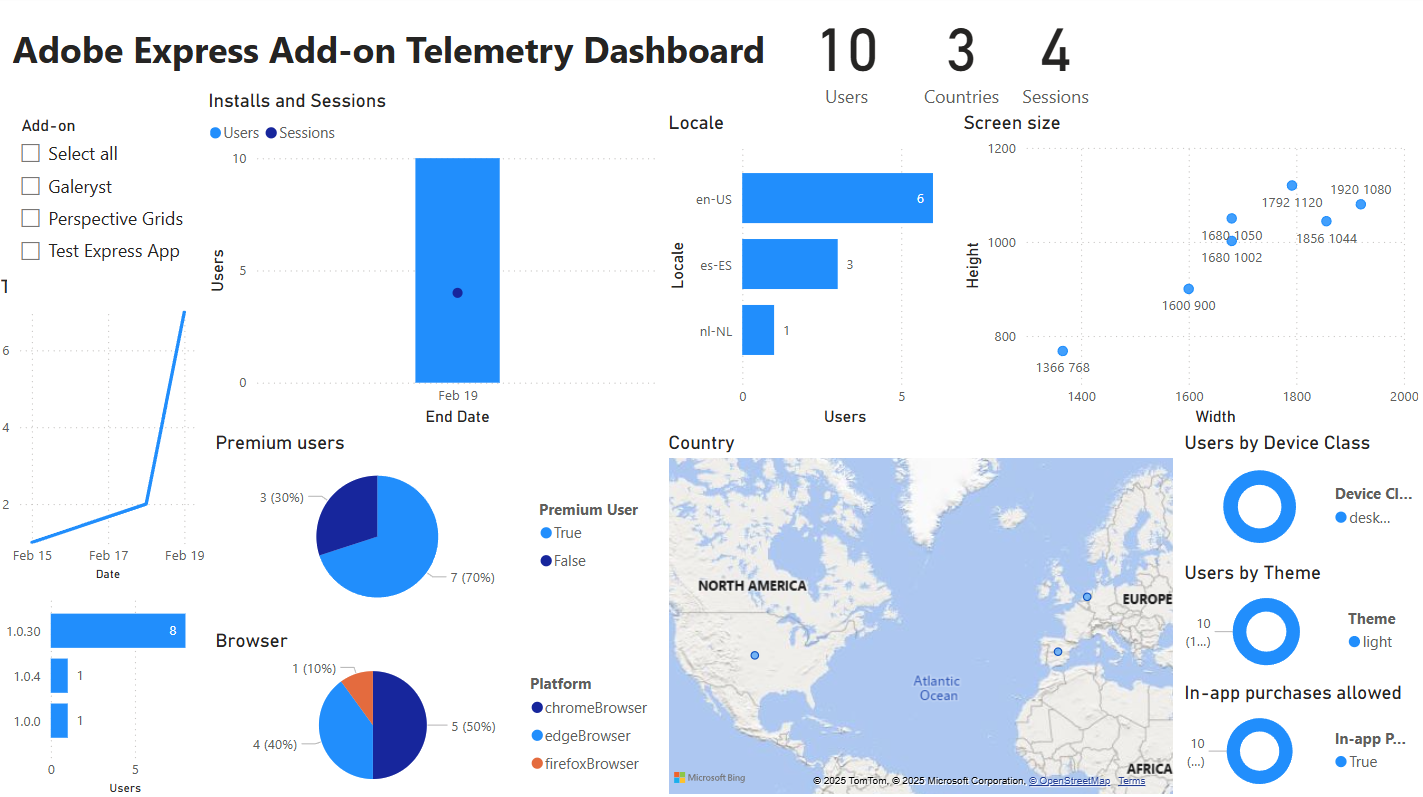

This screenshot's page, from the dashboard's own definition file:
{"tool":"powerbi","page":{"name":"Users","canvas":[1280,720],"ordinal":0},"visuals":[{"type":"lineClusteredColumnComboChart","title":"Installs by date","fields":{"Y":["expressAnalyticsUsers.Users2"],"Category":["Dates.Date"]},"box":[0,282.1,192.5,199.7],"z":0},{"type":"pieChart","title":"Premium users","fields":{"Y":["expressAnalyticsUsers.Users2"],"Category":["expressAnalyticsUsers.Premium User"]},"box":[192.5,382.4,314.3,177.3],"z":1000},{"type":"donutChart","title":"In-app purchases allowed","fields":{"Category":["expressAnalyticsUsers.In-app Purchase Allowed"],"Y":["expressAnalyticsUsers.Users2"]},"box":[1060.3,613.4,219.4,106.6],"z":2000},{"type":"pieChart","title":"Browser","fields":{"Category":["expressAnalyticsUsers.Platform"],"Y":["expressAnalyticsUsers.Users2"]},"box":[192.5,566.9,309.9,153.1],"z":3000},{"type":"barChart","title":"Version","fields":{"Category":["expressAnalyticsUsers.Version"],"Y":["expressAnalyticsUsers.Users2"]},"box":[0,505.1,192.5,214.9],"z":4000},{"type":"lineChart","title":"Total installs","fields":{"Y":["expressAnalyticsUsers.Users2"],"Category":["Dates.Date"]},"box":[192.5,103,447.8,286.6],"z":5000},{"type":"textbox","box":[10.7,19.7,735.2,63.6],"z":6000},{"type":"card","fields":{"Values":["expressAnalyticsUsers.Users2"]},"box":[698.5,0,128.1,103],"z":7000},{"type":"scatterChart","title":"Screen size","fields":{"X":["expressAnalyticsUsers.Width"],"Y":["expressAnalyticsUsers.Height"]},"box":[862.4,103,417.3,286.6],"z":8000},{"type":"barChart","title":"Locale","fields":{"Category":["expressAnalyticsUsers.Locale"],"Y":["expressAnalyticsUsers.Users2"]},"box":[598.2,103,264.2,286.6],"z":9000},{"type":"donutChart","fields":{"Y":["expressAnalyticsUsers.Users2"],"Category":["expressAnalyticsUsers.Theme"]},"box":[1060.3,506,219.4,107.5],"z":10000},{"type":"slicer","fields":{"Values":["expressAnalyticsUsers.Add-on"]},"box":[10.7,103,181.8,171.9],"z":11000},{"type":"donutChart","fields":{"Category":["expressAnalyticsUsers.Device Class"],"Y":["expressAnalyticsUsers.Users2"]},"box":[1060.3,389.6,219.4,116.4],"z":12000},{"type":"map","fields":{"Category":["expressAnalyticsUsers.Alpha-2 Code"]},"box":[502.4,389.6,557.9,330.4],"z":12001},{"type":"card","fields":{"Values":["Count(expressAnalyticsUsers.Alpha-2 Code)"]},"box":[826.6,0,77.9,103],"z":12002}]}

Visuals, with their boxes in screenshot pixels (x1, y1, x2, y2), scaled from the page's 1280x720 canvas onto the 1423x797 screenshot:
"Installs by date" lineClusteredColumnComboChart: (0,312,214,533)
"Premium users" pieChart: (214,423,563,620)
"In-app purchases allowed" donutChart: (1179,679,1422,796)
"Browser" pieChart: (214,628,559,796)
"Version" barChart: (0,559,214,796)
"Total installs" lineChart: (214,114,712,431)
textbox: (12,22,829,92)
card - expressAnalyticsUsers.Users2: (777,0,919,114)
"Screen size" scatterChart: (959,114,1422,431)
"Locale" barChart: (665,114,959,431)
donutChart - expressAnalyticsUsers.Users2 x expressAnalyticsUsers.Theme: (1179,560,1422,679)
slicer - expressAnalyticsUsers.Add-on: (12,114,214,304)
donutChart - expressAnalyticsUsers.Device Class x expressAnalyticsUsers.Users2: (1179,431,1422,560)
map - expressAnalyticsUsers.Alpha-2 Code: (559,431,1179,796)
card - Count(expressAnalyticsUsers.Alpha-2 Code): (919,0,1006,114)
